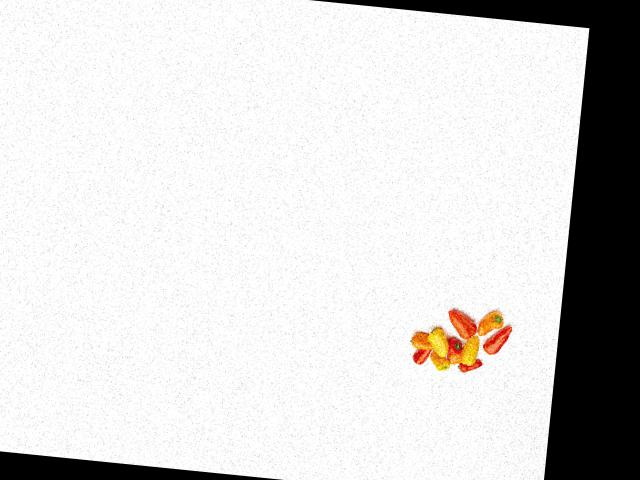bell_pepper: (456, 359, 485, 375)
